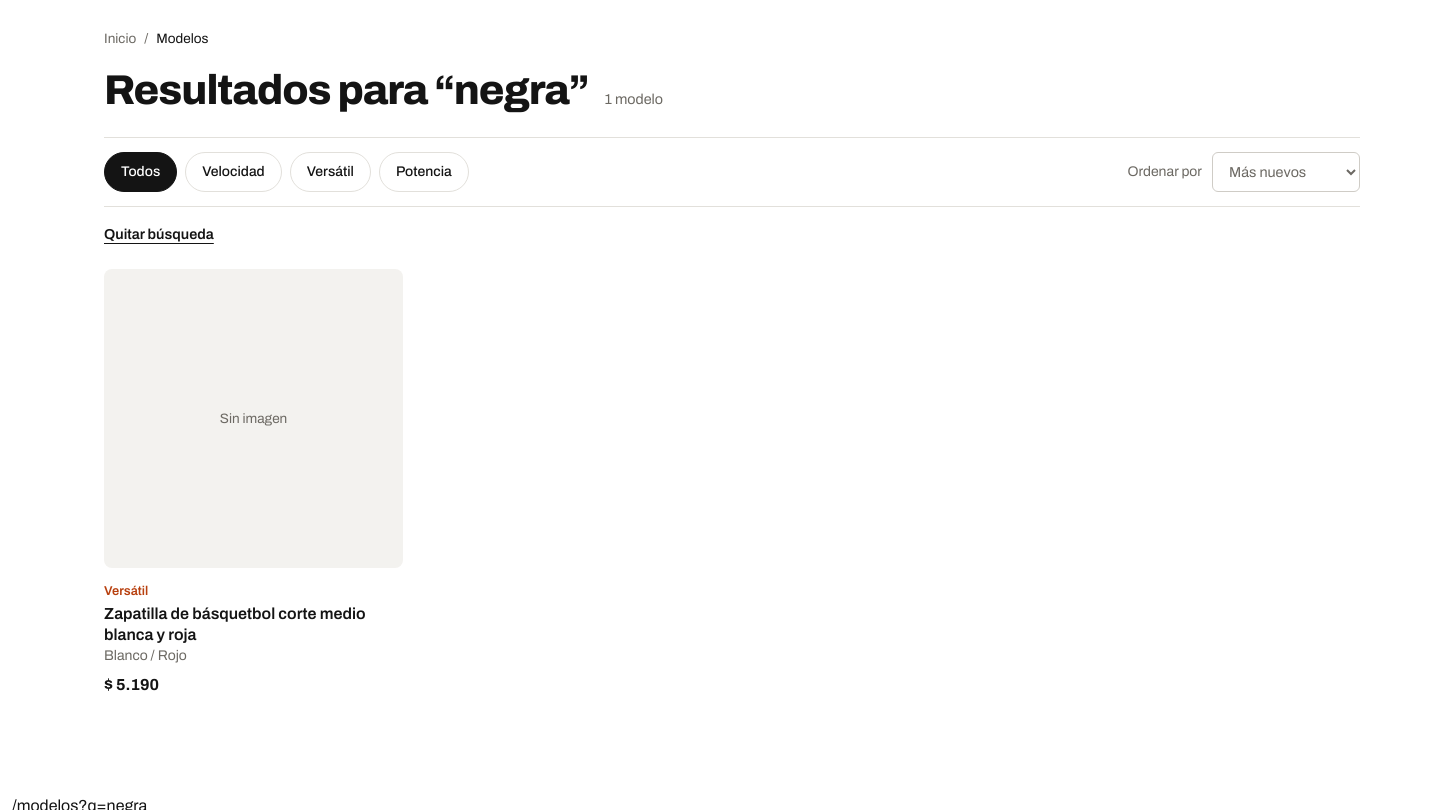
catálogo › cambiar el orden actualiza la URL
Select "Mayor precio" in the dropdown labelled "Ordenar por" at (1286, 172), box 1212,152 -> 1360,192
(page scrolled)
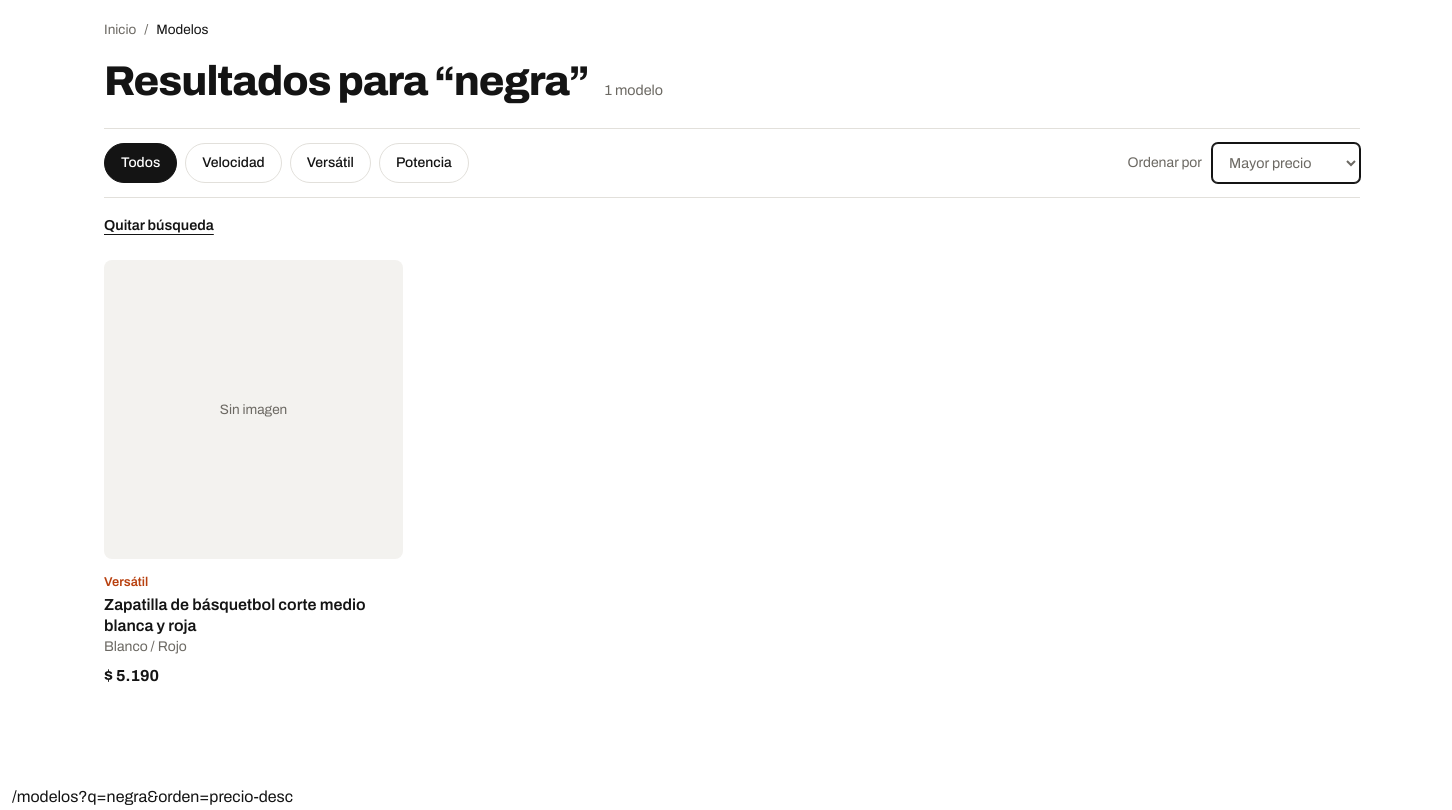
Now the text with test id "ubicacion" reads "/modelos?q=negra&orden=precio-desc", box 12,788 -> 293,805
